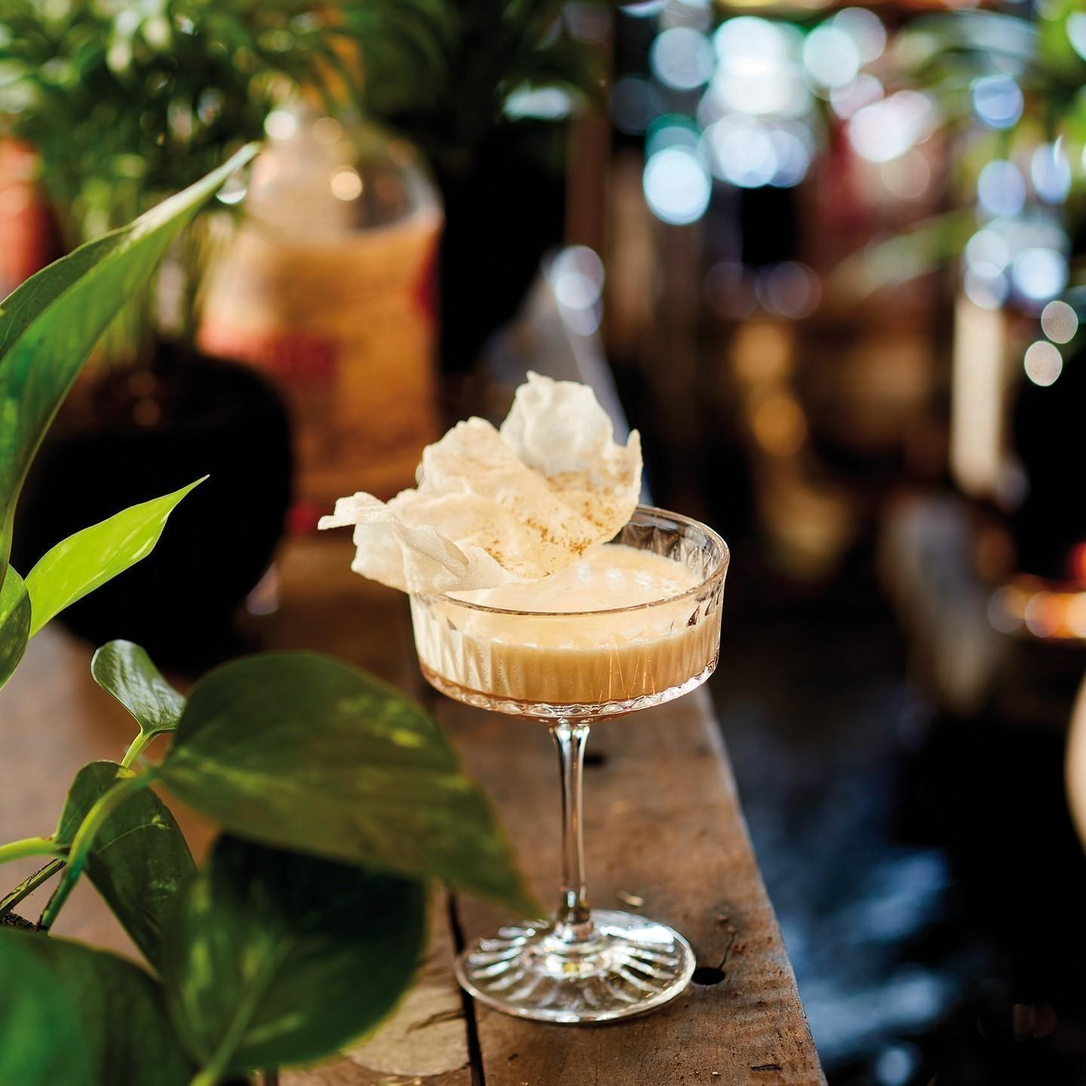glass-wine: (398, 491, 734, 1026)
